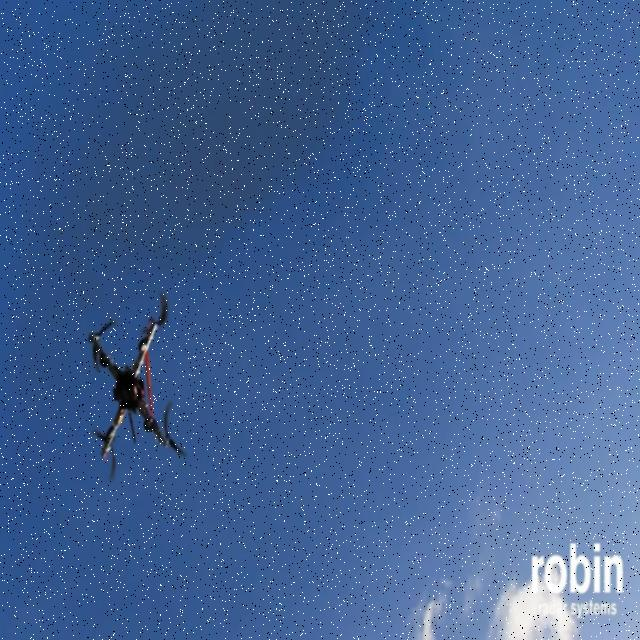UAV: (86, 308, 173, 466)
